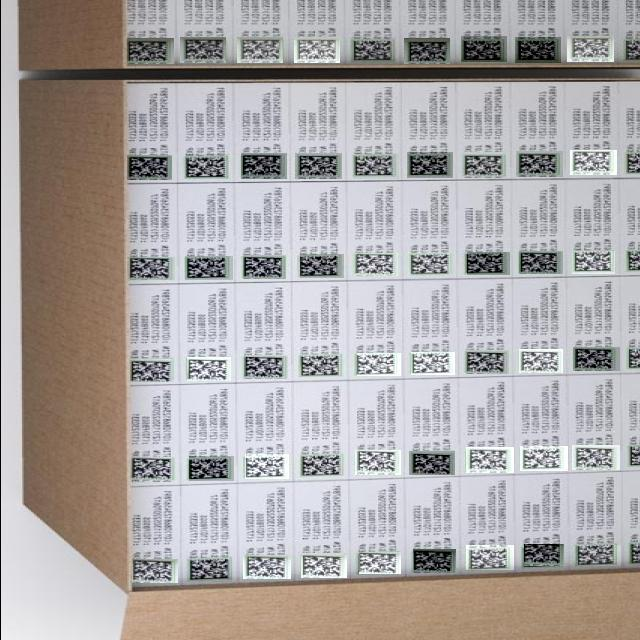Data-Matrix: (465, 447, 513, 473), (294, 153, 341, 179), (515, 151, 562, 177), (566, 36, 613, 62), (126, 38, 173, 64), (465, 545, 513, 570), (571, 445, 619, 470), (519, 446, 567, 471), (185, 556, 231, 582), (240, 153, 286, 179), (352, 153, 398, 179), (406, 152, 452, 178), (460, 152, 506, 178), (514, 37, 560, 63), (460, 36, 506, 62), (403, 38, 449, 64), (349, 37, 395, 63), (293, 37, 339, 63), (236, 37, 282, 63), (179, 37, 225, 63), (569, 150, 616, 175), (242, 555, 290, 579), (184, 256, 232, 280), (300, 553, 346, 578), (354, 450, 400, 475), (572, 347, 619, 371), (188, 456, 233, 481), (129, 457, 174, 482), (126, 155, 171, 180), (131, 559, 177, 583), (408, 451, 454, 475), (126, 257, 174, 280), (244, 454, 288, 479), (184, 154, 228, 179), (299, 452, 344, 476), (518, 349, 562, 373), (464, 350, 508, 374), (299, 354, 343, 378), (243, 355, 287, 379), (186, 357, 230, 381), (299, 254, 343, 278), (412, 549, 455, 573), (242, 255, 285, 279), (410, 352, 454, 375), (356, 353, 400, 376), (518, 251, 562, 274), (407, 252, 451, 275), (353, 253, 397, 276), (128, 359, 171, 382), (571, 251, 614, 274), (466, 252, 509, 275), (576, 545, 620, 566), (358, 552, 400, 574), (523, 544, 563, 566)
